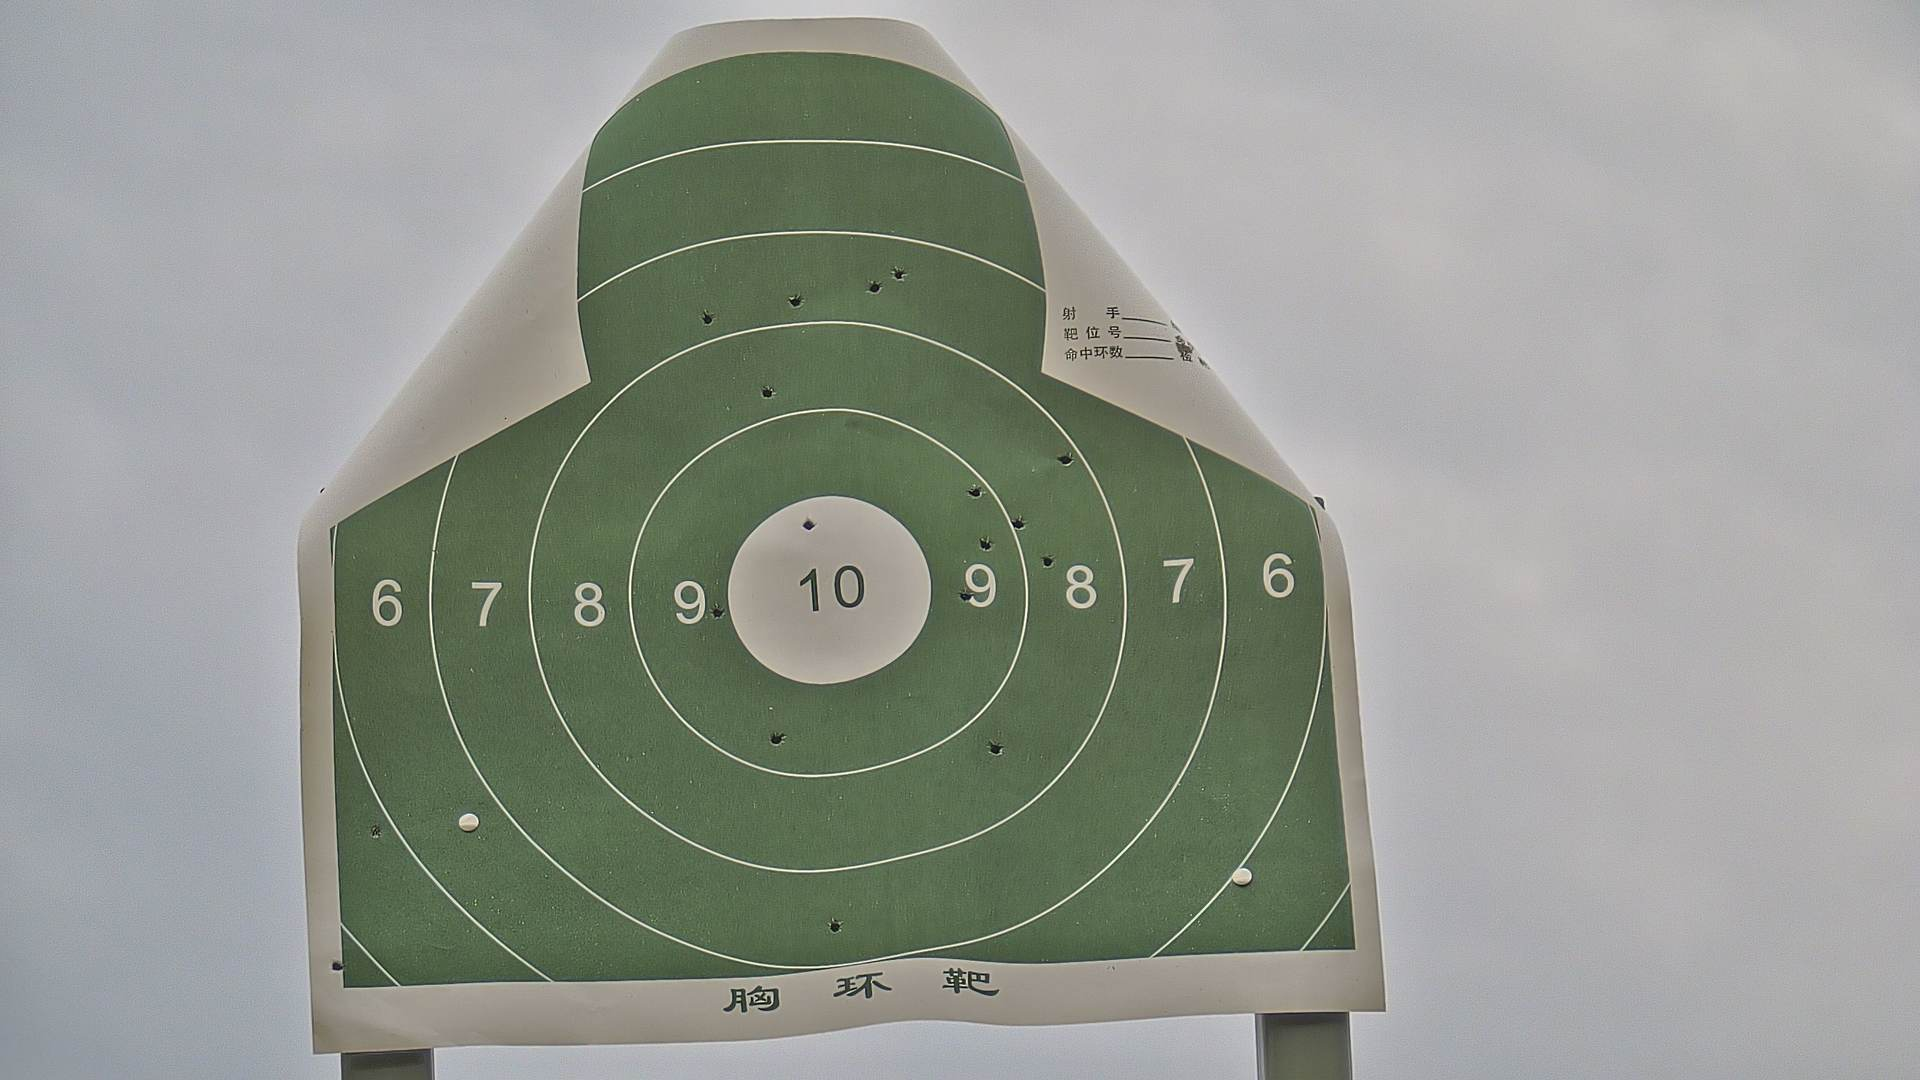hole: (982, 736, 1006, 757), (1055, 451, 1080, 469), (783, 295, 808, 311), (1007, 514, 1029, 533), (976, 535, 997, 554), (956, 587, 977, 605), (757, 386, 782, 401), (967, 485, 988, 502), (707, 604, 727, 621), (1038, 553, 1058, 570), (766, 732, 787, 748), (825, 918, 847, 934), (326, 957, 343, 976), (891, 266, 911, 282), (864, 280, 884, 295), (367, 823, 382, 841), (800, 518, 818, 531), (699, 313, 717, 324)
kernel: (824, 585, 833, 592)
target: (328, 50, 1360, 986)
ten: (719, 487, 935, 684)
